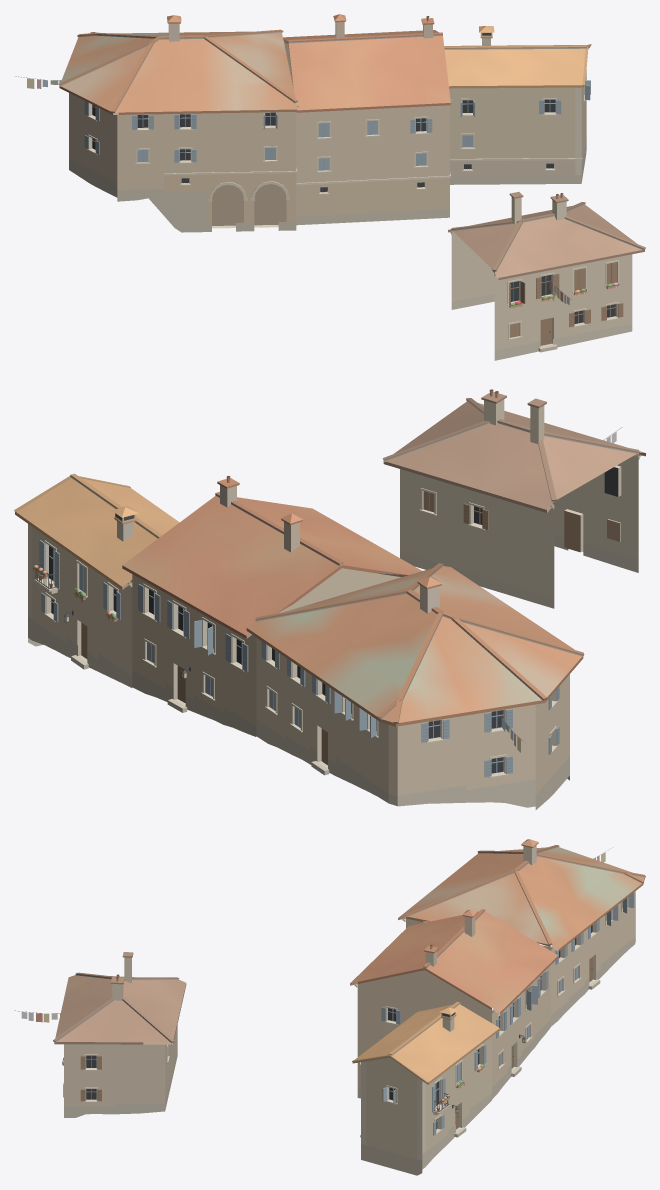
The model's file is SM_BM_BT_blk_14.glb.
3 views of the same model, one above another, from view 1: azimuth 30°, elevation 25°; view 2: azimuth 150°, elevation 25°; view 3: azimuth 270°, elevation 25° (orthographic). The views are drawn at different scales.
Parts seen in each view (by area): view 1: SM_BM_BT_blk_14; view 2: SM_BM_BT_blk_14; view 3: SM_BM_BT_blk_14.
Boxes of the visible parts, box(x1,y1,x2,y2) form: SM_BM_BT_blk_14: box(15, 14, 645, 360); SM_BM_BT_blk_14: box(14, 389, 645, 809); SM_BM_BT_blk_14: box(14, 839, 645, 1175).
Size of the model in its own units: 42.95 by 16.39 by 51.49.
